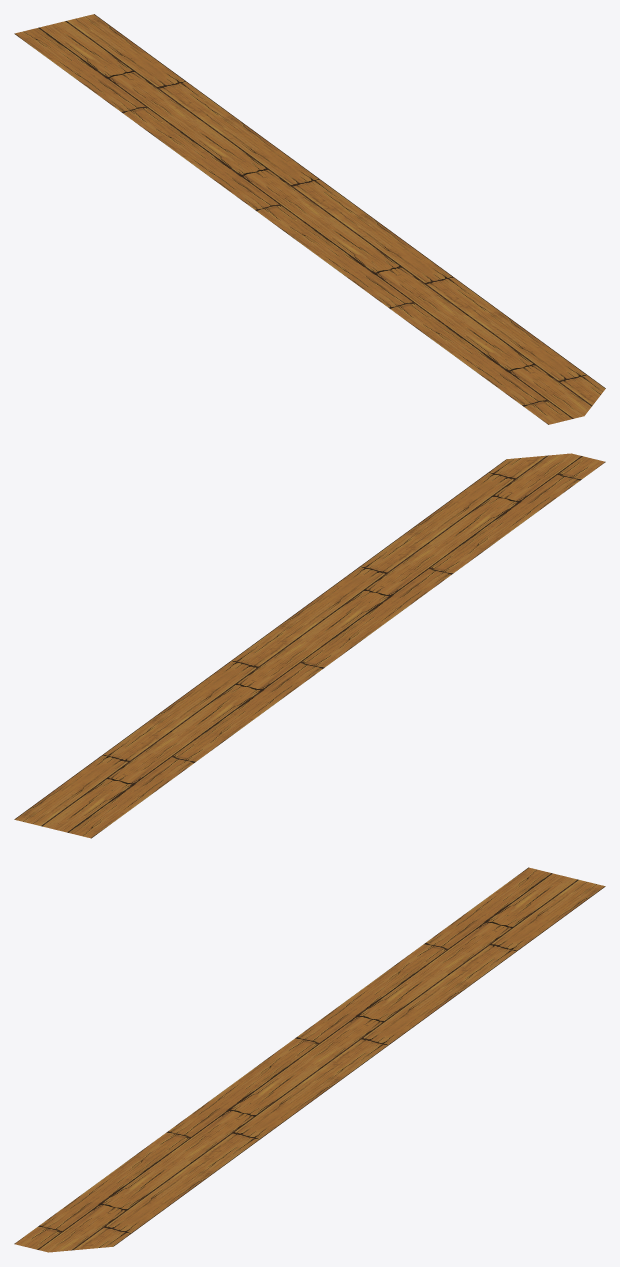
Rendered from FloorPlanks_End.obj.
3 renders of one model, top to bottom at view 1: azimuth 30°, elevation 25°; view 2: azimuth 150°, elevation 25°; view 3: azimuth 330°, elevation 25°, orthographic. The views are drawn at different scales.
Parts seen in each view (by area): view 1: Model_FloorPlanks_End; view 2: Model_FloorPlanks_End; view 3: Model_FloorPlanks_End.
Part boxes in pixels (x1=…): Model_FloorPlanks_End: x1=14, y1=14, x2=605, y2=424; Model_FloorPlanks_End: x1=14, y1=453, x2=605, y2=838; Model_FloorPlanks_End: x1=14, y1=867, x2=605, y2=1252.
Size of the model in its own units: 2.05 by 5e-06 by 23.63.
1 material, 1 textured.
